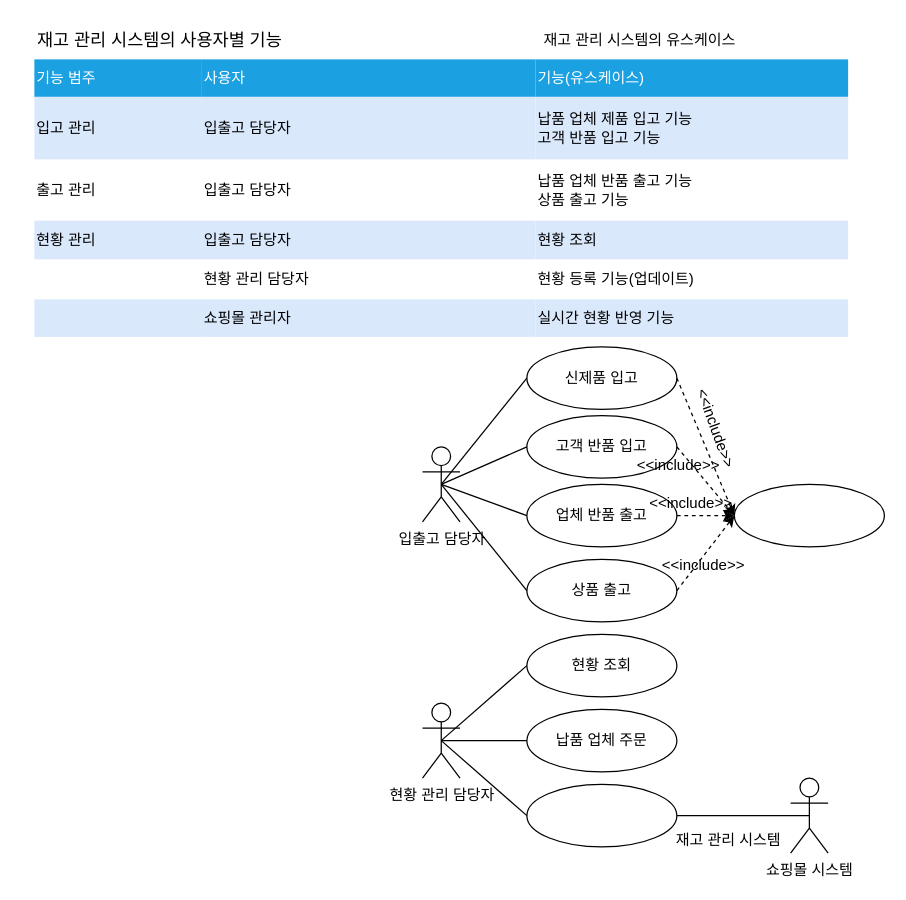
The diagram is 906 pixels wide and 900 high, and some of its shapes have lost their labels. The shapes that lost their labels are listed below. From the top down, each one's box as (x1, y1, x2, y2) in pixels, then its label:
(733, 483, 884, 547): 현황 등록
(526, 783, 677, 847): 현황 반영
